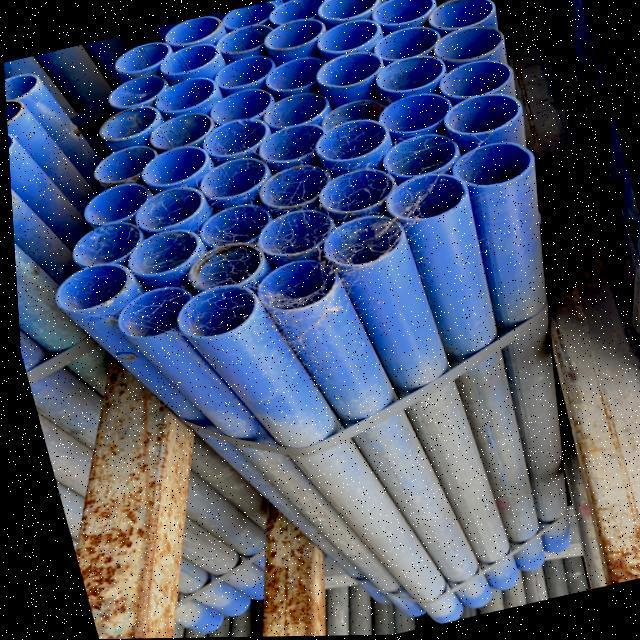pipe: (250, 256, 335, 314), (250, 156, 328, 212), (319, 211, 399, 265), (171, 283, 251, 336), (111, 284, 189, 338), (79, 179, 163, 229), (386, 171, 466, 223), (194, 150, 264, 208), (66, 214, 144, 265), (192, 204, 276, 251), (251, 206, 329, 256), (380, 128, 456, 179), (184, 238, 260, 289), (447, 142, 531, 187), (50, 262, 124, 313), (317, 166, 392, 216), (124, 226, 196, 278), (375, 94, 451, 143), (439, 91, 521, 136), (429, 59, 510, 104), (127, 182, 202, 230), (88, 139, 163, 186), (133, 142, 204, 190), (312, 116, 384, 163), (252, 122, 321, 171), (259, 53, 336, 94), (362, 25, 446, 62), (196, 116, 265, 161), (373, 55, 450, 94), (258, 87, 329, 129), (105, 65, 171, 110), (143, 112, 213, 154), (196, 87, 273, 124), (97, 100, 161, 144), (212, 52, 275, 95), (435, 17, 499, 58), (315, 49, 380, 89), (149, 74, 212, 115), (260, 16, 329, 53), (215, 17, 273, 57), (425, 0, 495, 33), (317, 96, 389, 127), (315, 15, 375, 52), (156, 42, 217, 78), (112, 40, 171, 76), (161, 13, 223, 47), (370, 0, 434, 27), (220, 0, 280, 28), (314, 0, 377, 21), (268, 0, 323, 24), (4, 71, 37, 97)
